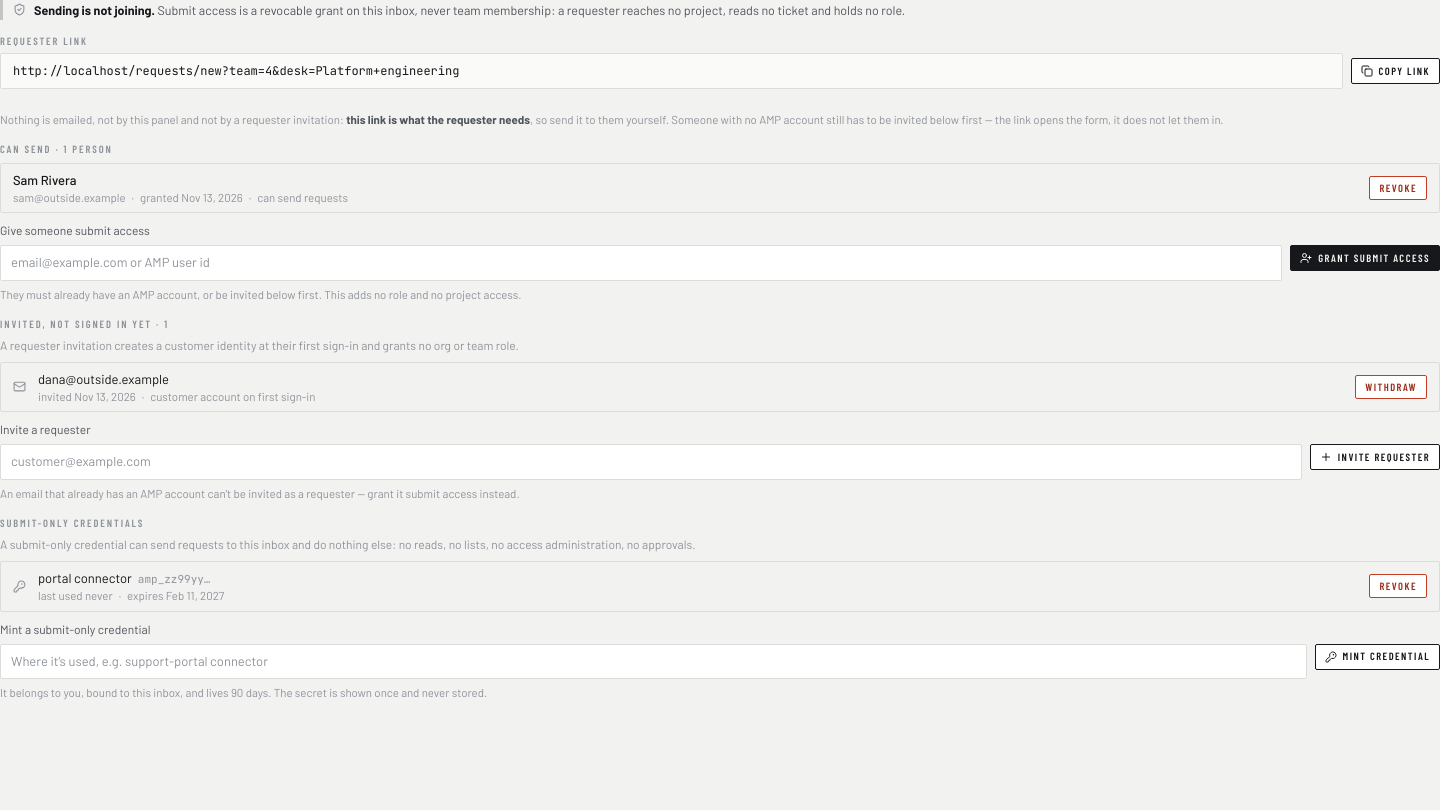
the secret is shown once and never retained › drops the secret when dismissed, and lists only the prefix afterwards
In the field labelled "Mint a submit-only credential": (653, 661) [0,644,1306,679], type "portal connector"
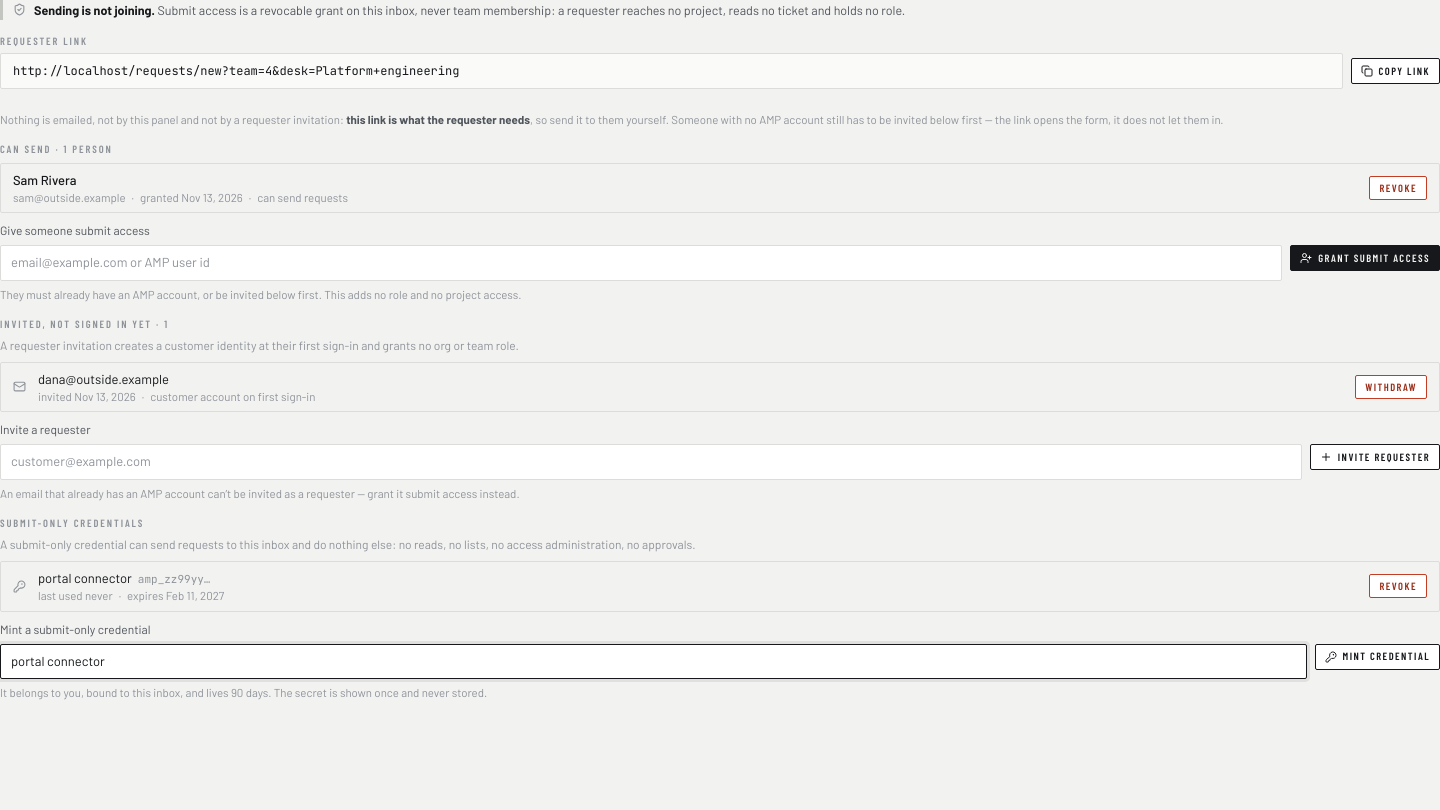
Click the button "Mint credential": click(1377, 657) [1314,644,1439,670]
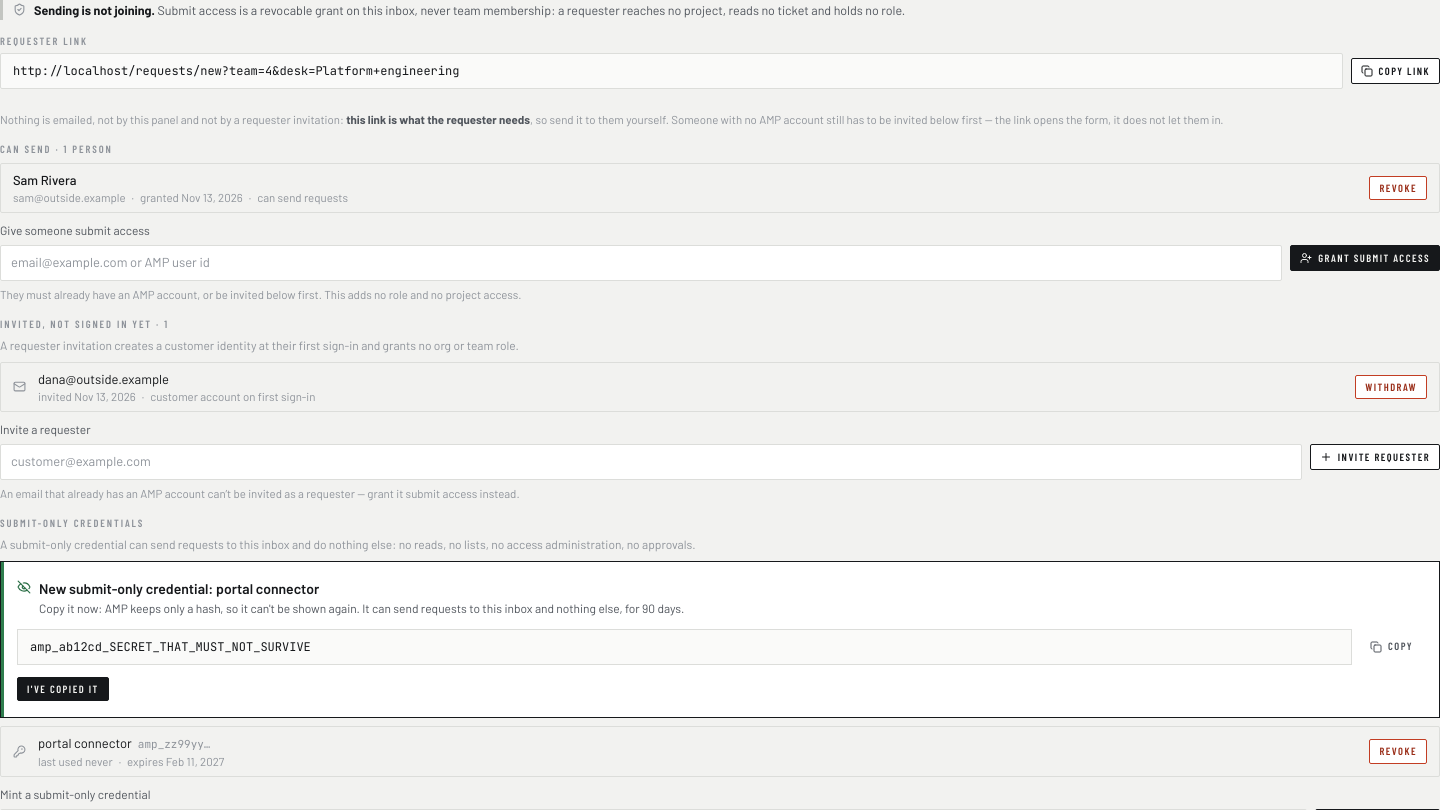
Check: the text "amp_ab12cd_SECRET_THAT_MUST_NOT_SURVIVE" is shown, box [17,628,1352,664]
Click the button "I've copied it": click(63, 689) [17,676,109,701]
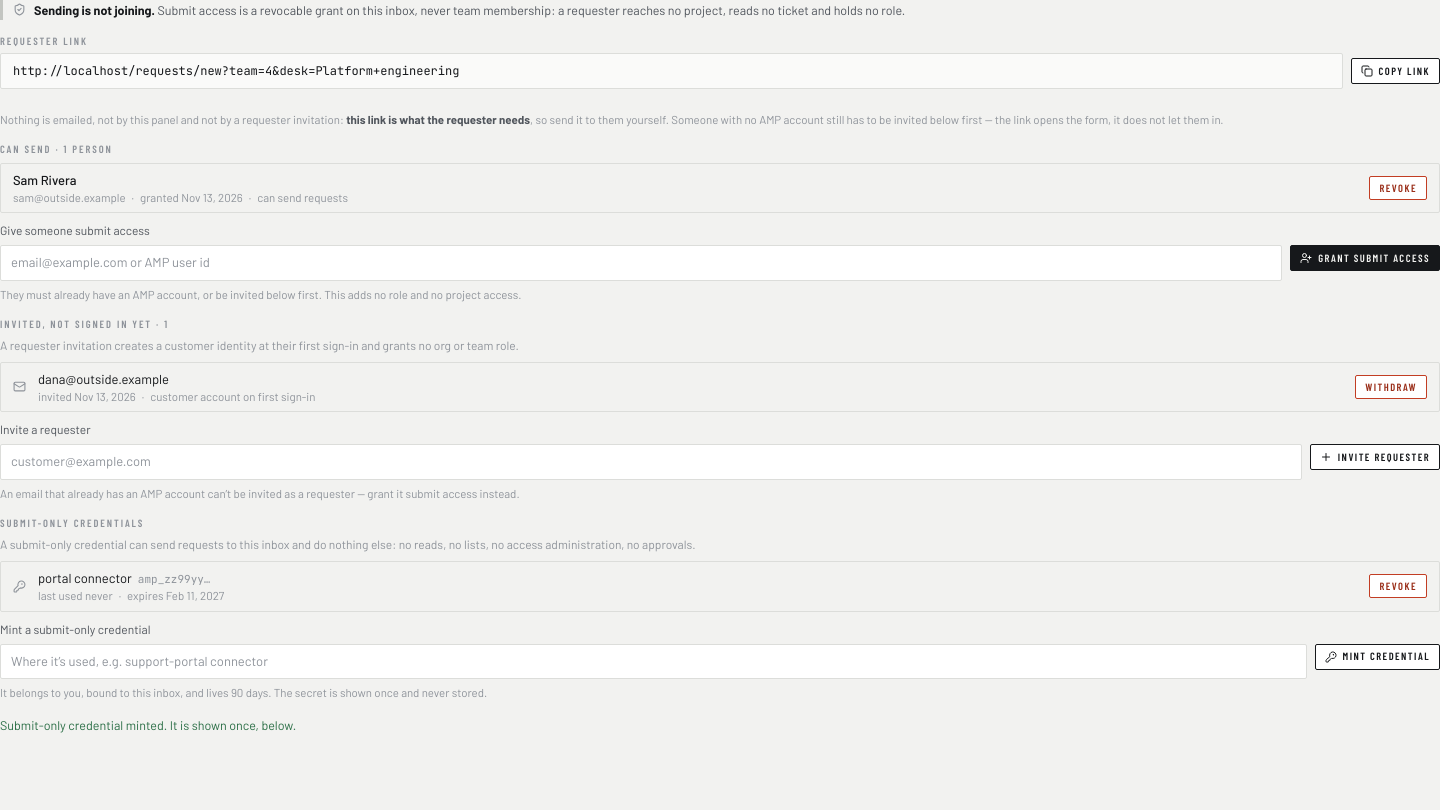
Check: the text "amp_zz99yy…" is shown, box [138,572,210,586]
Check: the text "amp_ab12cd_SECRET_THAT_MUST_NOT_SURVIVE" is gone
Check: the text "portal connector" no longer shows "amp_ab12cd_SECRET_THAT_MUST_NOT_SURVIVE"
